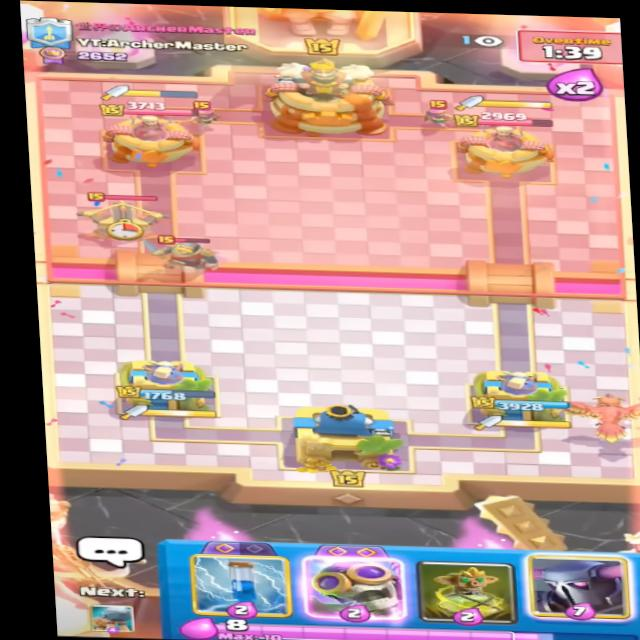archer: (417, 99, 455, 127), (187, 99, 223, 128)
knight: (141, 221, 227, 273)
x-bow: (74, 190, 168, 243)
